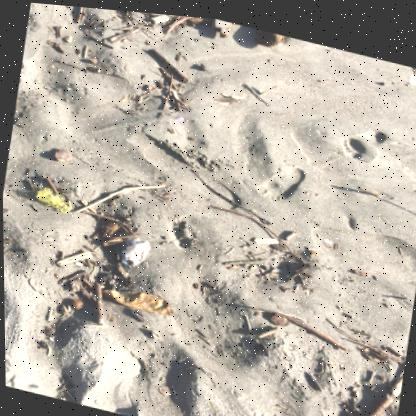Paper: (120, 234, 149, 264)
Plastic: (35, 185, 73, 211), (173, 112, 184, 117)
